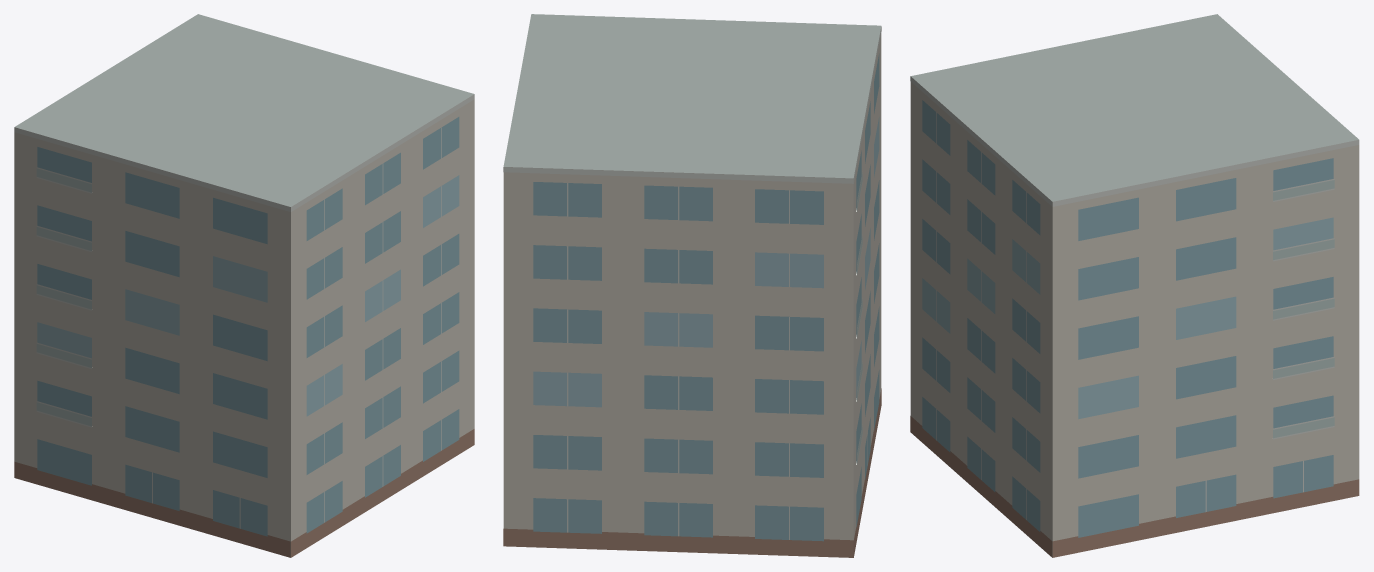
Rendered from survey-upis-32745158.glb.
3 views of the same model, side by side, from view 1: azimuth 30°, elevation 25°; view 2: azimuth 150°, elevation 25°; view 3: azimuth 270°, elevation 25° (orthographic). The views are drawn at different scales.
Visible parts, largest first — view 1: survey-upis-32745158.tmp; view 2: survey-upis-32745158.tmp; view 3: survey-upis-32745158.tmp.
Boxes of the visible parts, <box> form: survey-upis-32745158.tmp: <box>14,14,474,557</box>; survey-upis-32745158.tmp: <box>503,14,881,557</box>; survey-upis-32745158.tmp: <box>910,14,1359,557</box>.
Bounding box in the file's own units: 19.18 × 16.95 × 19.37.
